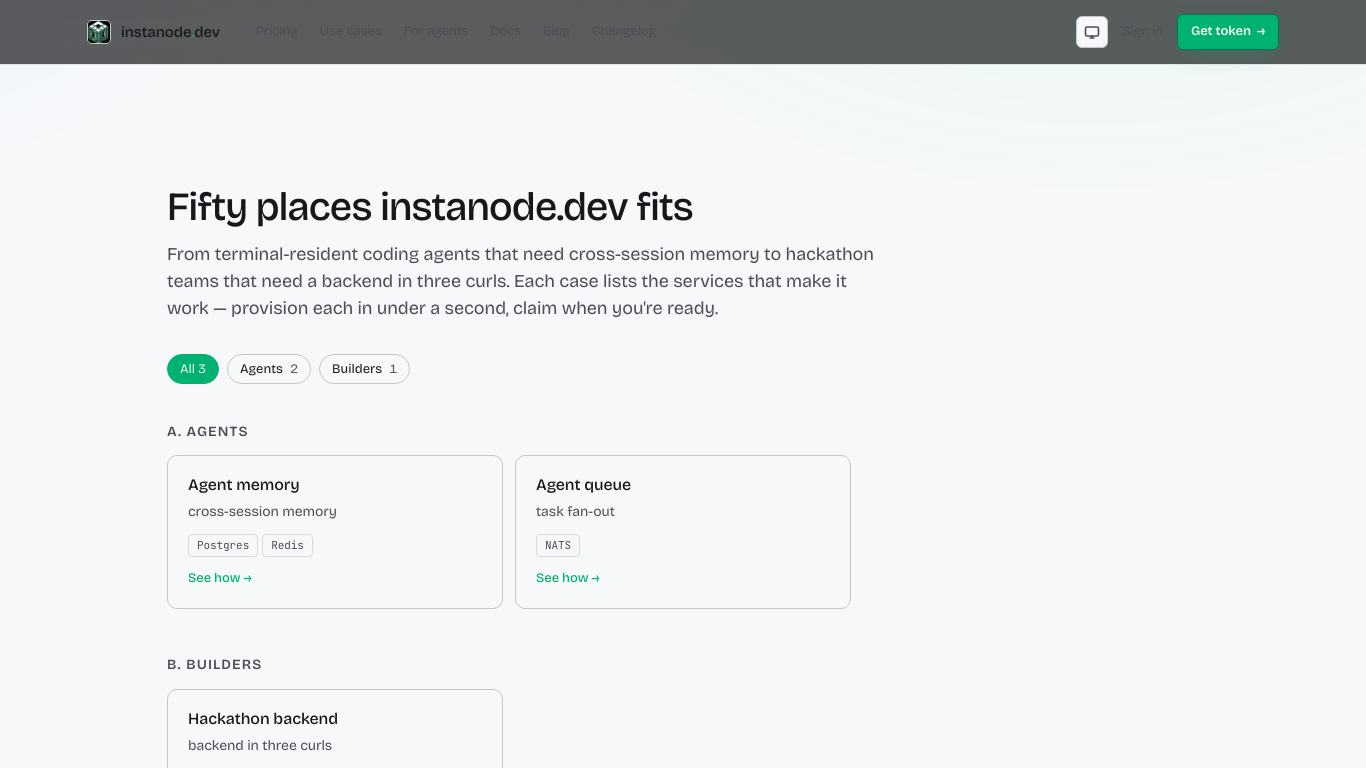
it: UseCasesPage › filters to a single category when a category chip is clicked
# "B. Builders" chip — its label has the "B. " prefix stripped.
Click the button "Builders 1": (365,368) [319,354,410,384]
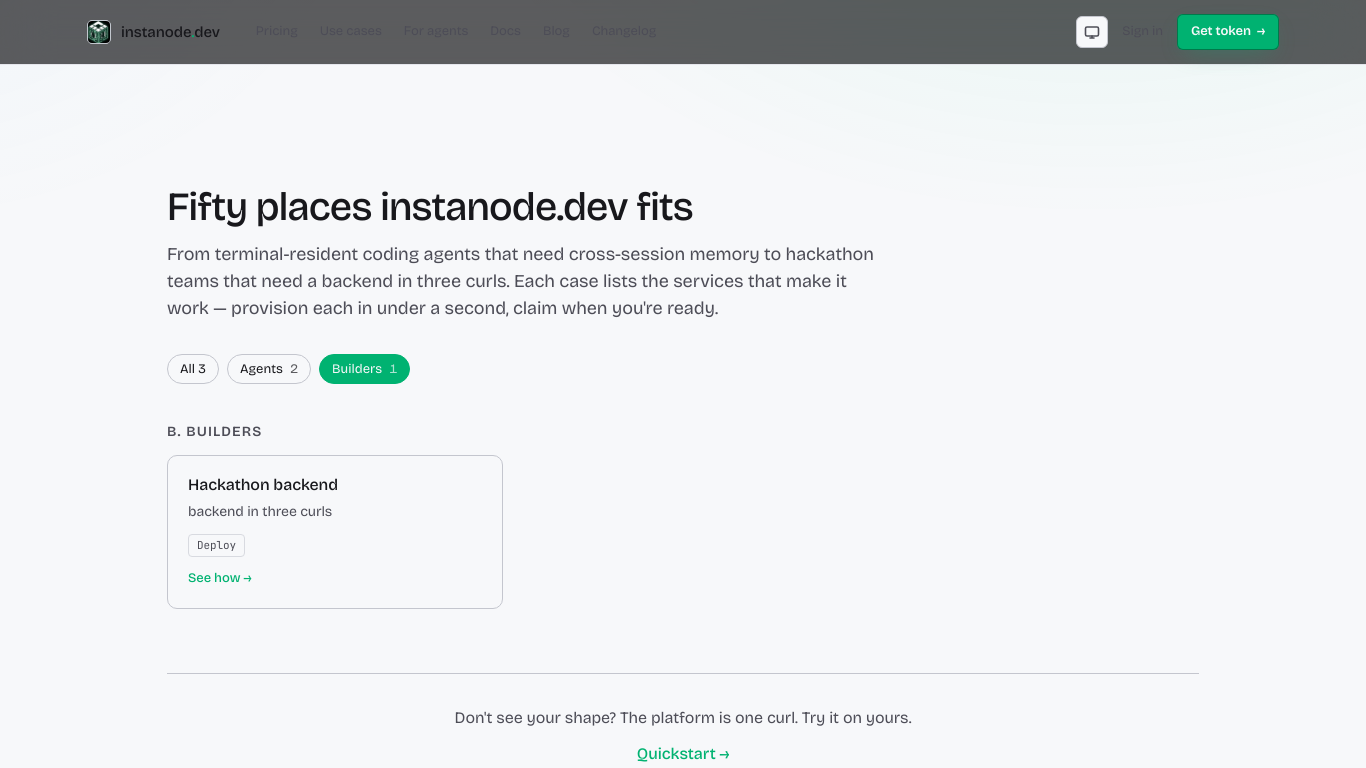
Expected: the heading "Hackathon backend" is shown, [188,475,338,494]
Expected: the link "Agent memory" is gone
